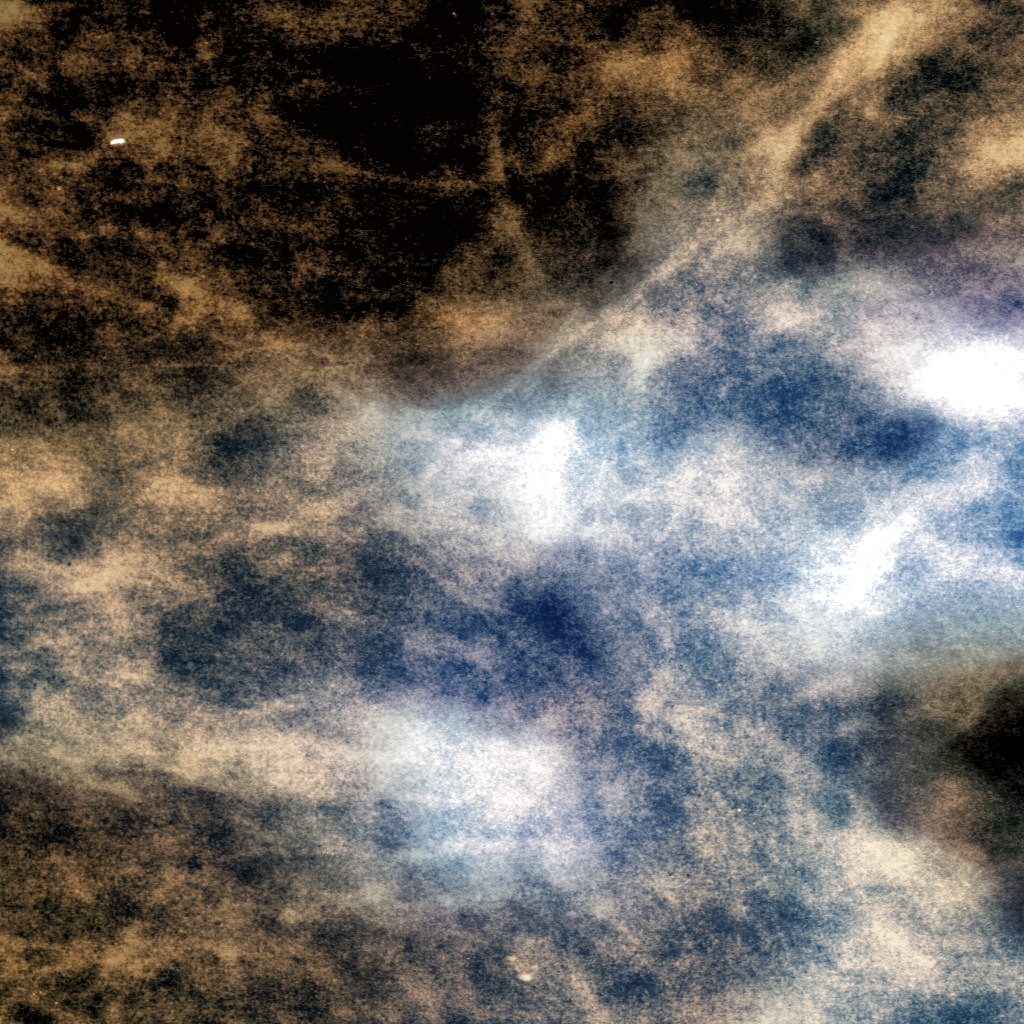tumor: (379, 373, 645, 651)
